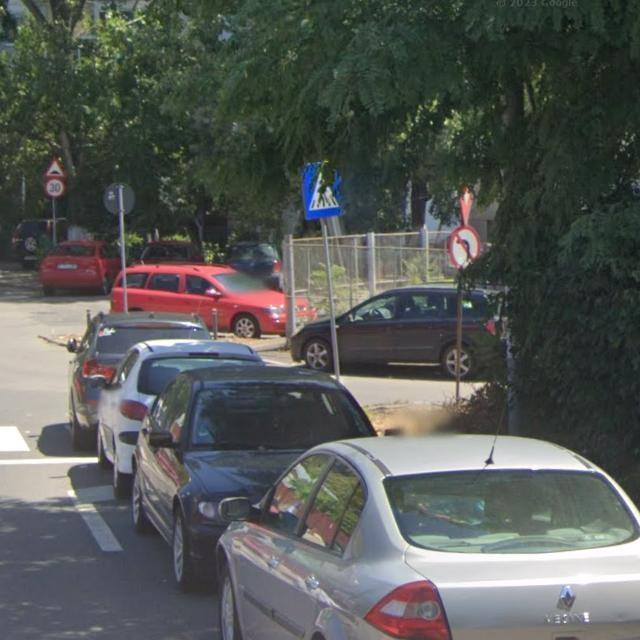forb_speed_over_30: (45, 178, 66, 198)
info_crosswalk: (303, 161, 343, 219)
